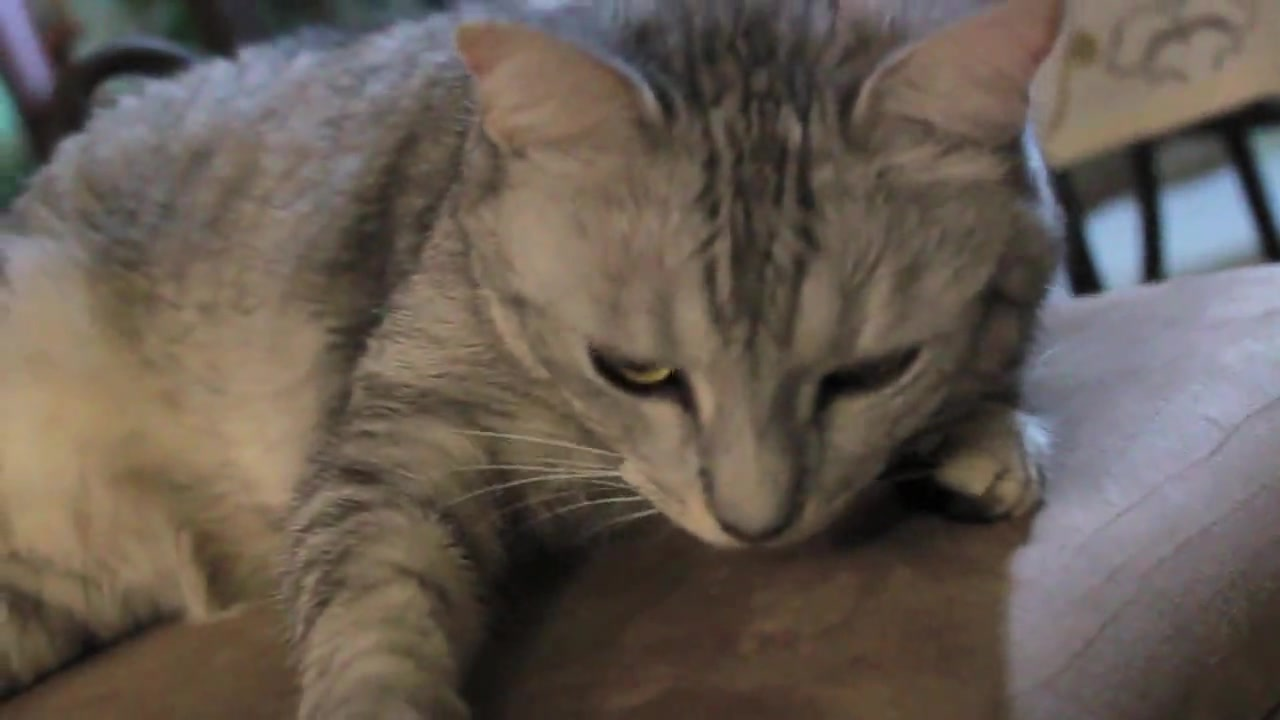cat: (1, 1, 1075, 720)
